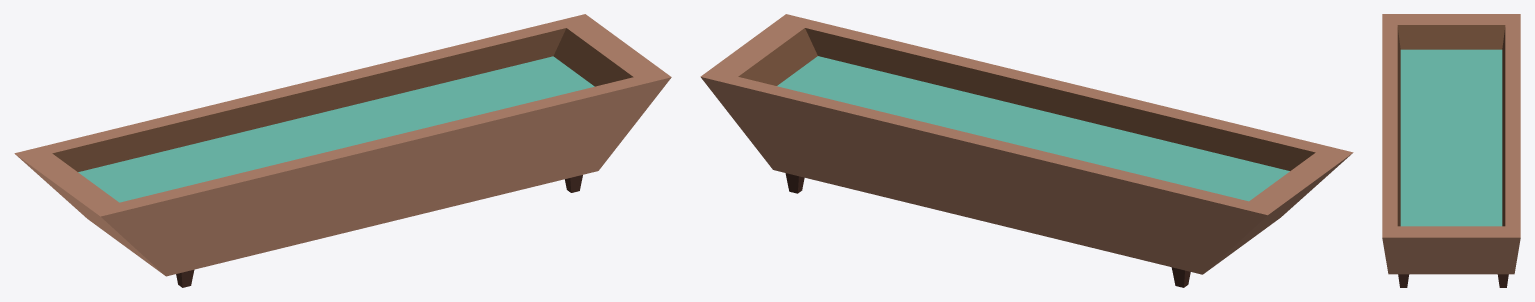
Rendered from drinking_trough_water.fbx.
3 views of the same model, side by side, from view 1: azimuth 30°, elevation 25°; view 2: azimuth 150°, elevation 25°; view 3: azimuth 270°, elevation 25° (orthographic). The views are drawn at different scales.
Visible parts, largest first — view 1: drinking_trough_water; view 2: drinking_trough_water; view 3: drinking_trough_water.
Boxes of the visible parts, x1,y1,x2,y2 form: drinking_trough_water: [14, 14, 671, 287]; drinking_trough_water: [700, 14, 1353, 287]; drinking_trough_water: [1382, 14, 1520, 287].
Bounding box in the file's own units: 905 × 155 × 237.
